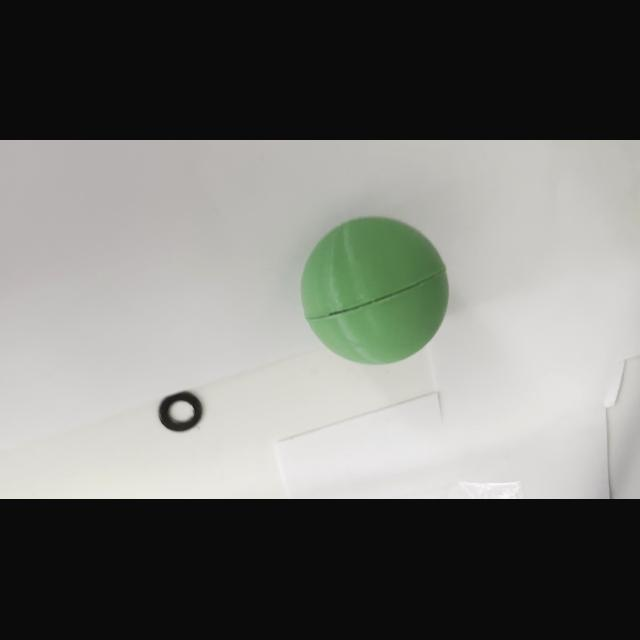objects: (297, 212, 451, 368)
